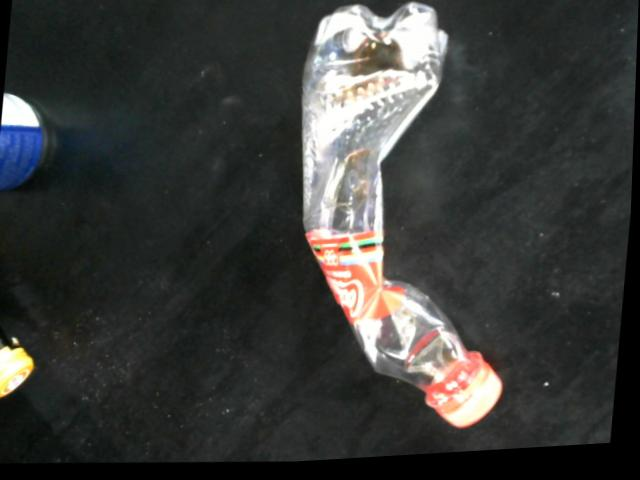bottle: (300, 6, 508, 436)
